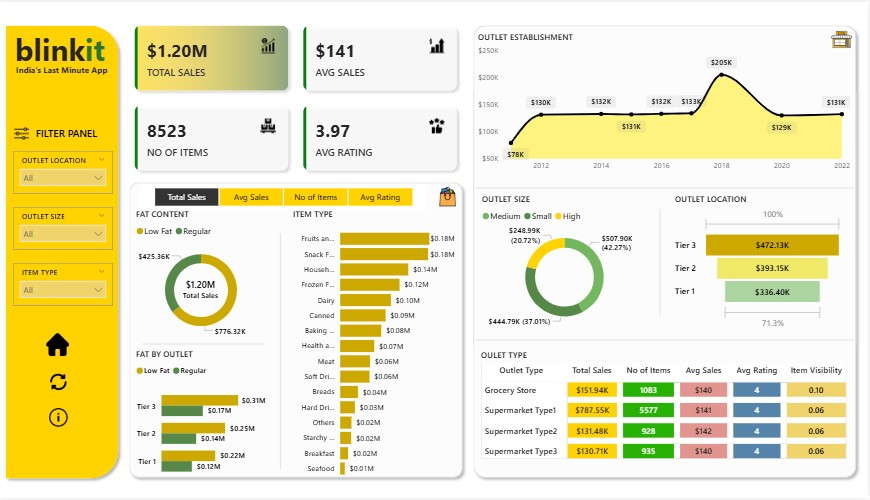

Layout of this report page (visuals, bound fields, positions):
{"tool":"powerbi","page":{"name":"Page 1","canvas":[1400,800],"ordinal":0},"visuals":[{"type":"shape","box":[0,29,200,748.4],"z":0},{"type":"textbox","box":[18.9,39.4,166.9,83.5],"z":1000},{"type":"textbox","box":[17.3,94.5,163.8,26.8],"z":2000},{"type":"cardVisual","fields":{"Data":["1_measure.total_sales","1_measure.avg_sales","1_measure.no_of_orders","1_measure.avg_rating"]},"box":[200,21,554.8,269.4],"z":3000},{"type":"shape","box":[200,282.3,554.8,493.5],"z":4000},{"type":"donutChart","title":"FAT CONTENT","fields":{"Category":["blinkit_grocery_dataset.item_fat_content"],"Y":["1_measure.Total Sales"]},"box":[214.5,332.3,219.4,219.4],"z":5000},{"type":"slicer","fields":{"Values":["matrics.matrics"]},"box":[224.2,293.5,464.5,41.9],"z":6000},{"type":"cardVisual","fields":{"Data":["1_measure.Total Sales"]},"box":[269.4,422.6,108.1,80.6],"z":6001},{"type":"clusteredBarChart","title":"FAT BY OUTLET","fields":{"Y":["1_measure.Total Sales"],"Category":["blinkit_grocery_dataset.outlet_location_type"],"Series":["blinkit_grocery_dataset.item_fat_content"]},"box":[214.5,558.1,219.4,224.2],"z":6002},{"type":"shape","box":[229,540.3,198.4,22.6],"z":6003},{"type":"shape","box":[446.8,372.6,11.3,380.6],"z":6004},{"type":"clusteredBarChart","title":"ITEM TYPE","fields":{"Category":["blinkit_grocery_dataset.item_type"],"Y":["1_measure.Total Sales"]},"box":[467.7,332.3,271,445.2],"z":6005},{"type":"shape","box":[754.8,29,635,747],"z":6006},{"type":"lineChart","title":"OUTLET ESTABLISHMENT","fields":{"Category":["blinkit_grocery_dataset.outlet_establishment_year"],"Y":["1_measure.Total Sales"]},"box":[766.1,46.8,609.7,235],"z":6007},{"type":"shape","box":[767.7,290.3,609.7,19.4],"z":6008},{"type":"donutChart","title":"OUTLET SIZE","fields":{"Y":["1_measure.Total Sales"],"Category":["blinkit_grocery_dataset.outlet_size"]},"box":[772.6,308.1,275.8,225.8],"z":6009},{"type":"shape","box":[1058.1,333.9,12.9,172.6],"z":6010},{"type":"funnel","title":"OUTLET LOCATION","fields":{"Category":["blinkit_grocery_dataset.outlet_location_type"],"Y":["1_measure.Total Sales"]},"box":[1083.9,308.1,279,225.8],"z":6011},{"type":"shape","box":[767.7,535.5,609.7,19.4],"z":6012},{"type":"pivotTable","title":"OULET TYPE","fields":{"Rows":["blinkit_grocery_dataset.outlet_type"],"Values":["1_measure.Total Sales","1_measure.No of Items","1_measure.Avg Sales","1_measure.Avg Rating","Avg(blinkit_grocery_dataset.item_visibility)"]},"box":[771,559.7,604.8,195.2],"z":6013},{"type":"slicer","fields":{"Values":["blinkit_grocery_dataset.outlet_location_type"]},"box":[21,240.3,161.3,69.4],"z":6014},{"type":"slicer","fields":{"Values":["blinkit_grocery_dataset.outlet_size"]},"box":[21,330.6,161.3,69.4],"z":6015},{"type":"slicer","fields":{"Values":["blinkit_grocery_dataset.item_type"]},"box":[21,421,161.3,69.4],"z":6016},{"type":"textbox","box":[45.2,195.2,124.2,35.5],"z":6017},{"type":"image","box":[17.7,195.2,34,34],"z":6018},{"type":"image","box":[71,588.7,48.4,48.4],"z":6020},{"type":"image","box":[698.4,293.5,47,41],"z":6022},{"type":"image","box":[1333.9,38.7,47,43],"z":6023},{"type":"image","box":[69.4,529,46.8,46.8],"z":6024},{"type":"image","box":[74.2,650,40.3,40.3],"z":6025}]}

Visuals, with their boxes in screenshot pixels (x1, y1, x2, y2), scaled from the page's 1400x800 canvas onto the 870x500 screenshot:
shape: (0, 18, 124, 486)
textbox: (12, 25, 115, 77)
textbox: (11, 59, 113, 76)
cardVisual - 1_measure.total_sales x 1_measure.avg_sales: (124, 13, 469, 182)
shape: (124, 176, 469, 485)
"FAT CONTENT" donutChart: (133, 208, 270, 345)
slicer - matrics.matrics: (139, 183, 428, 210)
cardVisual - 1_measure.Total Sales: (167, 264, 235, 314)
"FAT BY OUTLET" clusteredBarChart: (133, 349, 270, 489)
shape: (142, 338, 266, 352)
shape: (278, 233, 285, 471)
"ITEM TYPE" clusteredBarChart: (291, 208, 459, 486)
shape: (469, 18, 864, 485)
"OUTLET ESTABLISHMENT" lineChart: (476, 29, 855, 176)
shape: (477, 181, 856, 194)
"OUTLET SIZE" donutChart: (480, 193, 652, 334)
shape: (658, 209, 666, 317)
"OUTLET LOCATION" funnel: (674, 193, 847, 334)
shape: (477, 335, 856, 347)
"OULET TYPE" pivotTable: (479, 350, 855, 472)
slicer - blinkit_grocery_dataset.outlet_location_type: (13, 150, 113, 194)
slicer - blinkit_grocery_dataset.outlet_size: (13, 207, 113, 250)
slicer - blinkit_grocery_dataset.item_type: (13, 263, 113, 306)
textbox: (28, 122, 105, 144)
image: (11, 122, 32, 143)
image: (44, 368, 74, 398)
image: (434, 183, 463, 209)
image: (829, 24, 858, 51)
image: (43, 331, 72, 360)
image: (46, 406, 71, 431)
